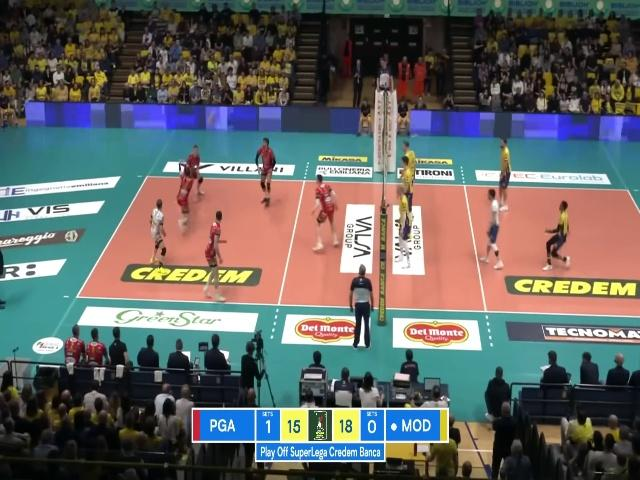volleyball court: (76, 174, 639, 314)
